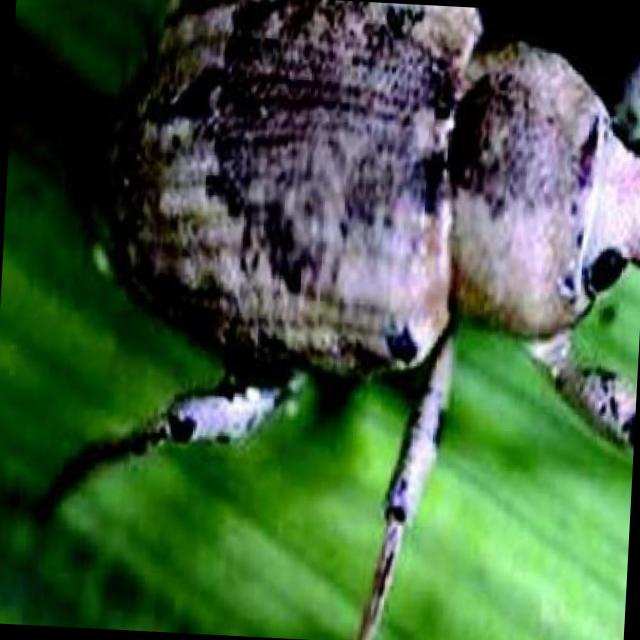rice-bug: (99, 0, 640, 461)
